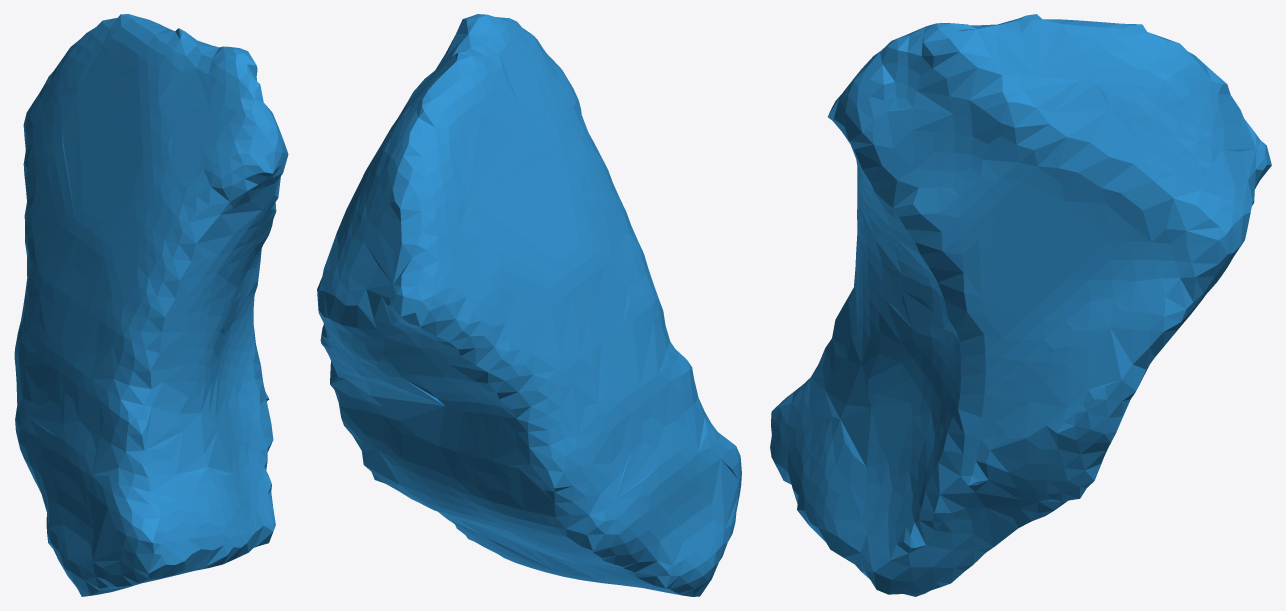
The model's file is Model_10085_LH__Auditory_cortex__rostrotemporal_lateral_area_(AuRTL).obj.
3 renders of one model, left to right at view 1: azimuth 30°, elevation 25°; view 2: azimuth 150°, elevation 25°; view 3: azimuth 270°, elevation 25°, orthographic. The views are drawn at different scales.
Bounding box in the file's own units: 1.55 × 2.94 × 2.29.
